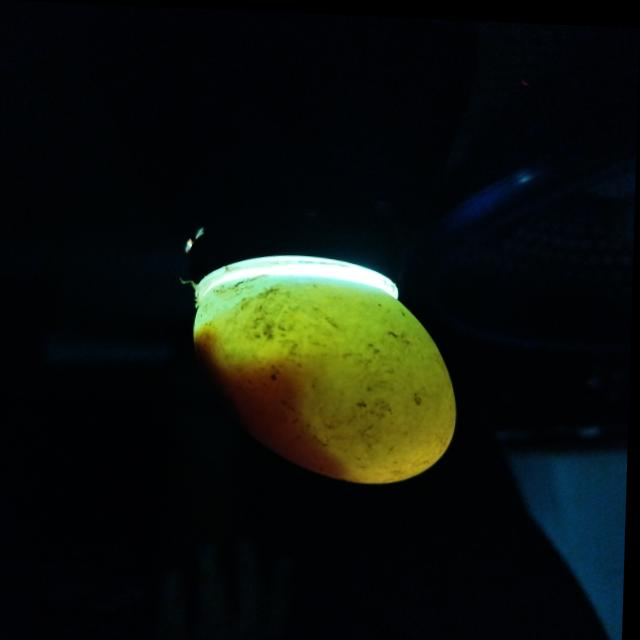Area Infectada: (198, 329, 346, 476)
